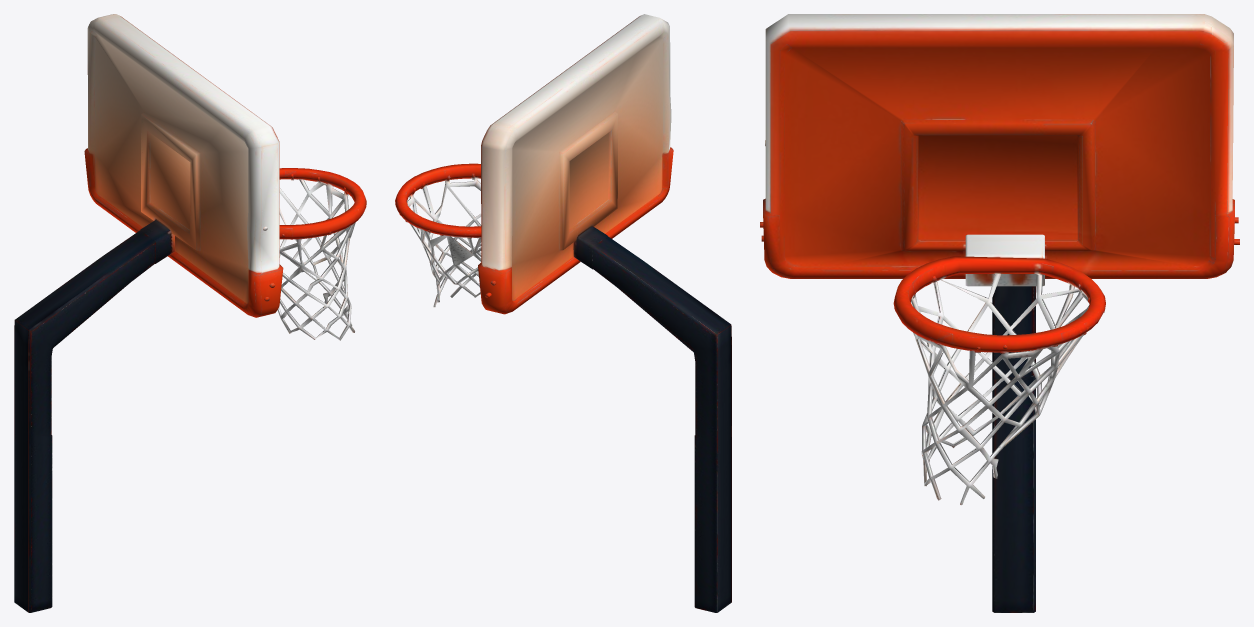
The model's file is Hub_BasketballHoop.glb.
The picture shows the model from 3 angles, left to right: view 1: azimuth 30°, elevation 25°; view 2: azimuth 150°, elevation 25°; view 3: azimuth 270°, elevation 25°; orthographic projection. The views are drawn at different scales.
Parts seen in each view (by area): view 1: tripo_node_4683f327-ab9d-4013-acfd-ccf8d662e6f9; view 2: tripo_node_4683f327-ab9d-4013-acfd-ccf8d662e6f9; view 3: tripo_node_4683f327-ab9d-4013-acfd-ccf8d662e6f9.
Boxes of the visible parts, x1,y1,x2,y2 form: tripo_node_4683f327-ab9d-4013-acfd-ccf8d662e6f9: (14,14,366,612); tripo_node_4683f327-ab9d-4013-acfd-ccf8d662e6f9: (395,14,731,612); tripo_node_4683f327-ab9d-4013-acfd-ccf8d662e6f9: (760,14,1239,612).
Size of the model in its own units: 0.6873 by 1 by 0.6375.
Materials: 1 (1 with a texture image).
